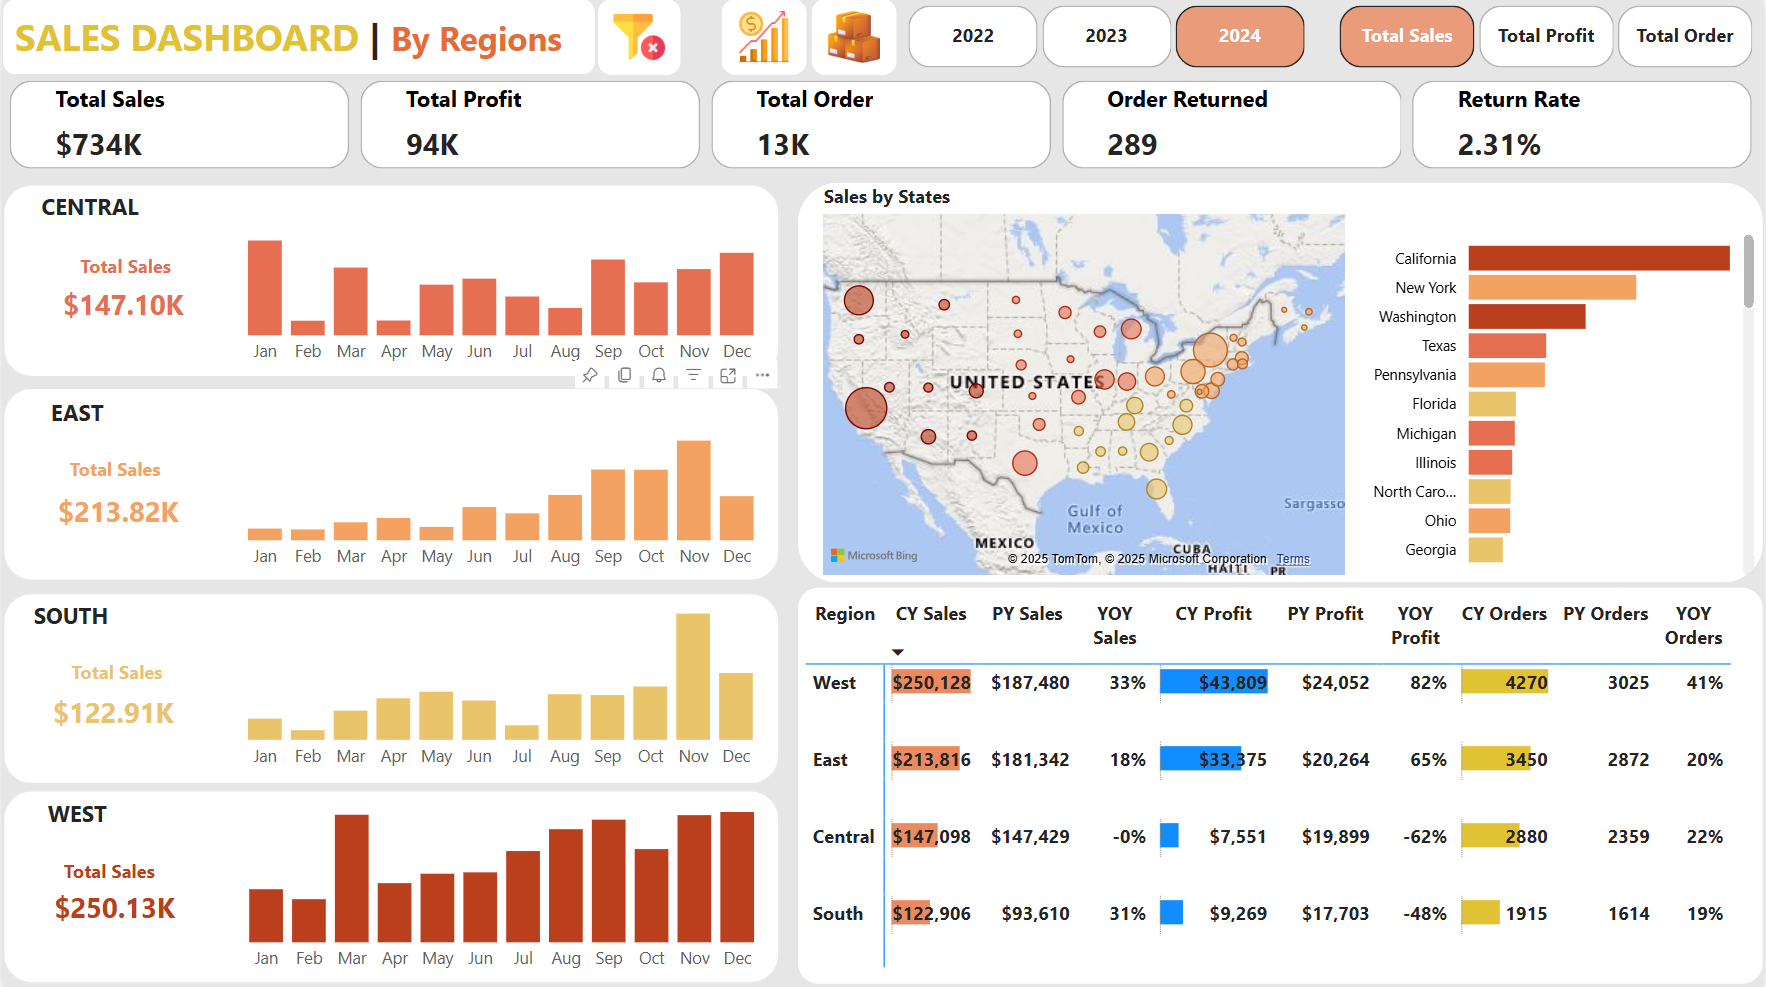

Layout of this report page (visuals, bound fields, positions):
{"tool":"powerbi","page":{"name":"Sales Dashboard","canvas":[1280,720],"ordinal":0},"visuals":[{"type":"shape","box":[0,134.3,564.8,140.6],"z":0},{"type":"shape","box":[0,431.9,564.8,139.3],"z":1000},{"type":"textbox","box":[0,0,430.7,55.2],"z":2000},{"type":"cardVisual","fields":{"Data":["Measure Table.Total Sales","Measure Table.Total Profit","Measure Table.Total Order","Measure Table.Order Returned","Measure Table.Return Rate"]},"box":[0,54.7,1280,74.6],"z":3000},{"type":"clusteredColumnChart","fields":{"Y":["Measure Table.Total Sales"],"Category":["dates.Month Name"]},"box":[160.5,135.6,403,139.3],"z":4000},{"type":"advancedSlicerVisual","fields":{"Values":["Parameter.Parameter"]},"box":[966.9,0,312.9,55.2],"z":5000},{"type":"shape","box":[0,283.1,564.8,140.6],"z":6000},{"type":"shape","box":[0,575.2,564.8,140.6],"z":7000},{"type":"clusteredColumnChart","fields":{"Y":["Measure Table.Total Sales"],"Category":["dates.Month Name"]},"box":[160.5,284.9,403,139.3],"z":8000},{"type":"clusteredColumnChart","fields":{"Y":["Measure Table.Total Sales"],"Category":["dates.Month Name"]},"box":[160.7,429,402.5,139.9],"z":9000},{"type":"clusteredColumnChart","fields":{"Y":["Measure Table.Total Sales"],"Category":["dates.Month Name"]},"box":[162,576.2,402.5,139.9],"z":10000},{"type":"shape","box":[577.9,133.7,701.8,290.8],"z":11000},{"type":"map","title":"Sales by States","fields":{"Size":["Measure Table.Total Sales"],"Category":["sales.State_Province"],"Series":["sales.Region"]},"box":[591.4,133.7,389,290.8],"z":12000},{"type":"barChart","fields":{"Y":["Measure Table.Total Sales"],"Category":["sales.State_Province"],"Series":["sales.Region"]},"box":[977.9,158.3,300.6,266.3],"z":13000},{"type":"pivotTable","fields":{"Rows":["sales.Region"],"Values":["Measure Table.CY Sales","Measure Table.PY Sales","Measure Table.YOY Sales","Measure Table.CY Profit","Measure Table.PY Profit","Measure Table.YOY Profit","Measure Table.CT Orders","Measure Table.PY Orders","Measure Table.YOY Orders"]},"box":[577.9,428.2,701.8,288.3],"z":14000},{"type":"advancedSlicerVisual","fields":{"Values":["dates.Year"]},"box":[654,0,300.6,55.2],"z":15000},{"type":"card","fields":{"Values":["Measure Table.Total Sales"]},"box":[7.4,201,160.7,46.6],"z":16000},{"type":"textbox","box":[17.2,284.7,73.6,31.9],"z":17000},{"type":"textbox","box":[17.2,135,92,33.1],"z":18000},{"type":"textbox","box":[17.2,431.5,73.6,31.9],"z":19000},{"type":"textbox","box":[17.2,576.2,73.6,31.9],"z":20000},{"type":"card","fields":{"Values":["Measure Table.Total Sales"]},"box":[3.7,350.7,160.7,46.6],"z":21000},{"type":"card","fields":{"Values":["Measure Table.Total Sales"]},"box":[0,498,160.7,45.4],"z":22000},{"type":"card","fields":{"Values":["Measure Table.Total Sales"]},"box":[1.2,639.7,160.7,45.4],"z":23000},{"type":"card","fields":{"Values":["Parameter.Title"]},"box":[42.9,177.9,93.3,36.8],"z":24000},{"type":"card","fields":{"Values":["Parameter.Title"]},"box":[36.8,326.4,90.8,36.8],"z":25000},{"type":"card","fields":{"Values":["Parameter.Title"]},"box":[30.7,473.2,104.3,36.8],"z":26000},{"type":"card","fields":{"Values":["Parameter.Title"]},"box":[33.1,617.9,89.6,36.8],"z":27000},{"type":"image","box":[433.1,0,60.1,55.2],"z":27003},{"type":"image","box":[587.7,0,61.4,55.2],"z":27004},{"type":"image","box":[522.7,0,61.4,55.2],"z":27005}]}

Visuals, with their boxes in screenshot pixels (x1, y1, x2, y2), scaled from the page's 1280x720 canvas onto the 1766x987 screenshot:
shape: x1=0, y1=184, x2=779, y2=377
shape: x1=0, y1=592, x2=779, y2=783
textbox: x1=0, y1=0, x2=594, y2=76
cardVisual - Measure Table.Total Sales x Measure Table.Total Profit: x1=0, y1=75, x2=1765, y2=177
clusteredColumnChart - Measure Table.Total Sales x dates.Month Name: x1=221, y1=186, x2=777, y2=377
advancedSlicerVisual - Parameter.Parameter: x1=1334, y1=0, x2=1765, y2=76
shape: x1=0, y1=388, x2=779, y2=581
shape: x1=0, y1=789, x2=779, y2=981
clusteredColumnChart - Measure Table.Total Sales x dates.Month Name: x1=221, y1=391, x2=777, y2=582
clusteredColumnChart - Measure Table.Total Sales x dates.Month Name: x1=222, y1=588, x2=777, y2=780
clusteredColumnChart - Measure Table.Total Sales x dates.Month Name: x1=224, y1=790, x2=779, y2=982
shape: x1=797, y1=183, x2=1765, y2=582
"Sales by States" map: x1=816, y1=183, x2=1353, y2=582
barChart - Measure Table.Total Sales x sales.State_Province: x1=1349, y1=217, x2=1764, y2=582
pivotTable - sales.Region x Measure Table.CY Sales: x1=797, y1=587, x2=1765, y2=982
advancedSlicerVisual - dates.Year: x1=902, y1=0, x2=1317, y2=76
card - Measure Table.Total Sales: x1=10, y1=276, x2=232, y2=339
textbox: x1=24, y1=390, x2=125, y2=434
textbox: x1=24, y1=185, x2=151, y2=230
textbox: x1=24, y1=592, x2=125, y2=635
textbox: x1=24, y1=790, x2=125, y2=834
card - Measure Table.Total Sales: x1=5, y1=481, x2=227, y2=545
card - Measure Table.Total Sales: x1=0, y1=683, x2=222, y2=745
card - Measure Table.Total Sales: x1=2, y1=877, x2=223, y2=939
card - Parameter.Title: x1=59, y1=244, x2=188, y2=294
card - Parameter.Title: x1=51, y1=447, x2=176, y2=498
card - Parameter.Title: x1=42, y1=649, x2=186, y2=699
card - Parameter.Title: x1=46, y1=847, x2=169, y2=897
image: x1=598, y1=0, x2=680, y2=76
image: x1=811, y1=0, x2=896, y2=76
image: x1=721, y1=0, x2=806, y2=76
